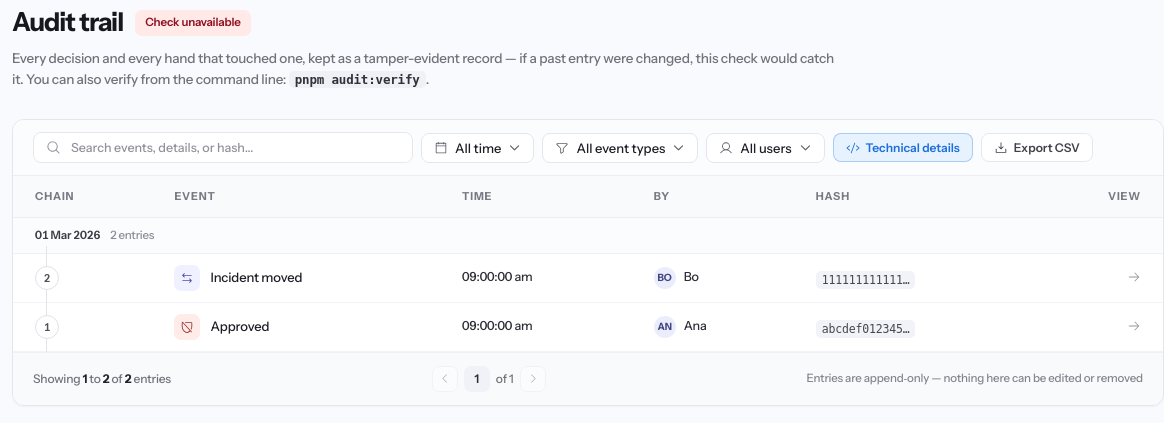
Test: AuditPage › lists chained entries with a truncated hash and no Detail column
This screenshot has width=1164, height=423.
Expected: the text "Incident moved" is shown, [210,268,302,288]
Expected: the text "Approved" is shown, [210,317,269,337]
Click the button "Technical details" at (903, 148), box [833,133,973,162]
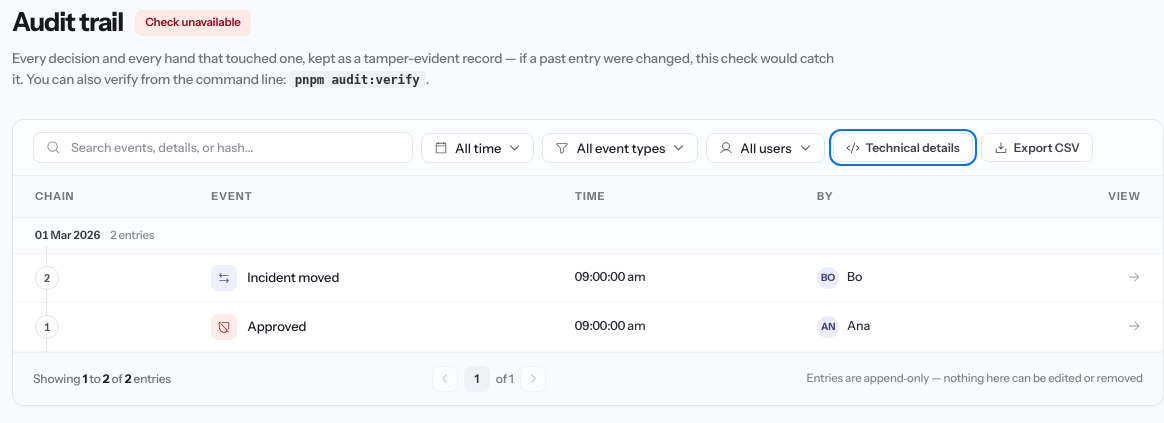
Now the text "abcdef012345…" is gone
